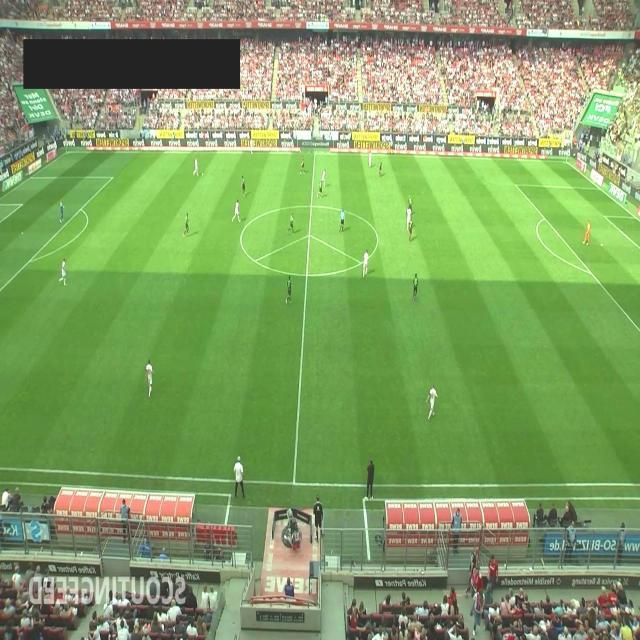Ball: (202, 172, 204, 178)
Corner: (64, 128, 68, 152), (566, 139, 568, 165)
GoalKeeper: (582, 220, 591, 246), (59, 200, 65, 222)
Referee: (339, 208, 345, 233), (389, 137, 394, 155)
TEAM 1: (426, 384, 438, 421), (144, 358, 154, 398), (59, 258, 67, 286), (232, 198, 240, 224), (363, 249, 369, 278), (406, 203, 412, 230), (320, 168, 326, 186), (193, 158, 199, 176), (368, 150, 372, 168), (250, 139, 253, 155)
TEAM 2: (412, 272, 418, 302), (286, 276, 292, 304), (316, 179, 324, 199), (183, 212, 189, 238), (408, 218, 414, 242), (288, 211, 294, 234), (300, 155, 306, 174), (408, 194, 413, 214), (241, 174, 245, 197), (378, 160, 382, 177)
